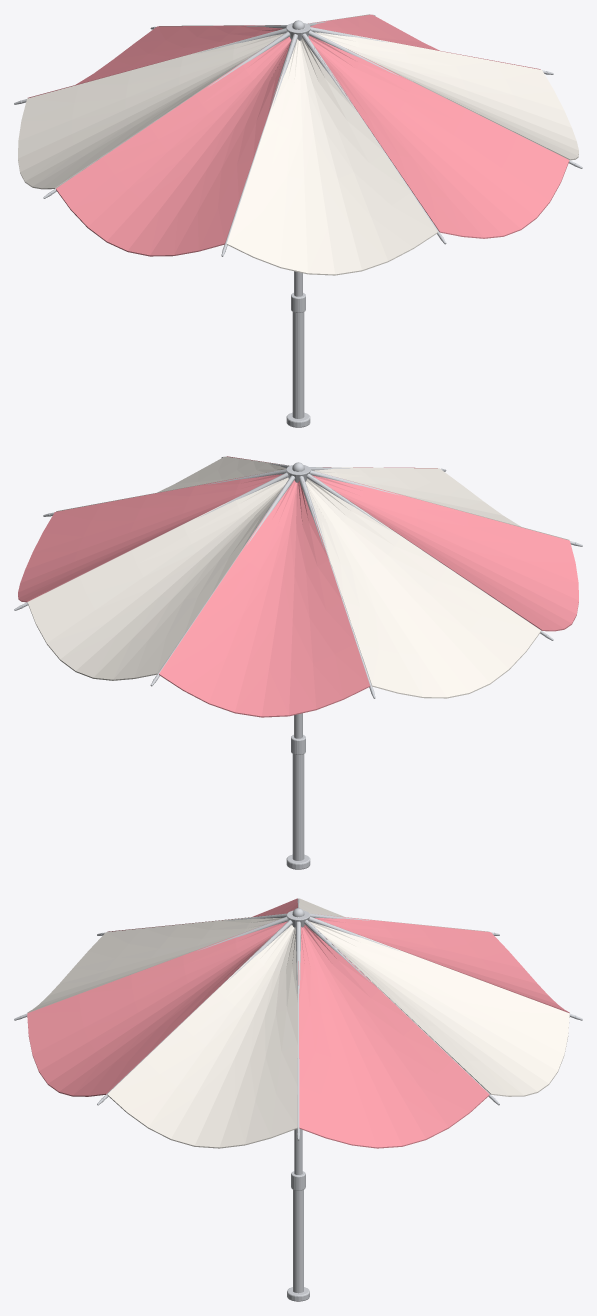
The model's file is beach_umbrella.glb.
3 renders of one model, top to bottom at view 1: azimuth 30°, elevation 25°; view 2: azimuth 150°, elevation 25°; view 3: azimuth 270°, elevation 25°, orthographic. The views are drawn at different scales.
Parts seen in each view (by area): view 1: beach_umbrella_canopy_panel5, beach_umbrella_canopy_panel4, beach_umbrella_canopy_panel6, beach_umbrella_canopy_panel3, beach_umbrella_canopy_panel7, beach_umbrella_canopy_panel2, beach_umbrella_canopy_panel0, beach_umbrella_pole_lower, beach_umbrella_rib5, beach_umbrella_rib6, beach_umbrella_rib4; view 2: beach_umbrella_canopy_panel2, beach_umbrella_canopy_panel3, beach_umbrella_canopy_panel1, beach_umbrella_canopy_panel4, beach_umbrella_canopy_panel0, beach_umbrella_canopy_panel5, beach_umbrella_canopy_panel7, beach_umbrella_pole_lower, beach_umbrella_rib3, beach_umbrella_rib2, beach_umbrella_rib4; view 3: beach_umbrella_canopy_panel0, beach_umbrella_canopy_panel7, beach_umbrella_canopy_panel1, beach_umbrella_canopy_panel6, beach_umbrella_canopy_panel2, beach_umbrella_canopy_panel5, beach_umbrella_pole_lower, beach_umbrella_rib0, beach_umbrella_rib1, beach_umbrella_rib7.
Boxes of the visible parts, x1,y1,x2,y2 form: beach_umbrella_canopy_panel5: (226, 38, 437, 275); beach_umbrella_canopy_panel4: (56, 36, 291, 256); beach_umbrella_canopy_panel6: (308, 35, 569, 238); beach_umbrella_canopy_panel3: (18, 33, 284, 189); beach_umbrella_canopy_panel7: (313, 30, 578, 160); beach_umbrella_canopy_panel2: (28, 25, 283, 98); beach_umbrella_canopy_panel0: (308, 14, 540, 69); beach_umbrella_pole_lower: (292, 312, 304, 418); beach_umbrella_rib5: (223, 29, 297, 249); beach_umbrella_rib6: (301, 29, 442, 237); beach_umbrella_rib4: (50, 28, 293, 194); beach_umbrella_canopy_panel2: (159, 480, 370, 717); beach_umbrella_canopy_panel3: (305, 478, 540, 698); beach_umbrella_canopy_panel1: (27, 477, 288, 680); beach_umbrella_canopy_panel4: (312, 475, 578, 631); beach_umbrella_canopy_panel0: (18, 472, 283, 602); beach_umbrella_canopy_panel5: (313, 467, 568, 540); beach_umbrella_canopy_panel7: (56, 456, 288, 511); beach_umbrella_pole_lower: (292, 754, 304, 860); beach_umbrella_rib3: (299, 471, 373, 691); beach_umbrella_rib2: (154, 471, 295, 679); beach_umbrella_rib4: (303, 470, 546, 636); beach_umbrella_canopy_panel0: (298, 925, 489, 1148); beach_umbrella_canopy_panel7: (107, 925, 298, 1148); beach_umbrella_canopy_panel1: (309, 921, 569, 1096); beach_umbrella_canopy_panel6: (27, 921, 287, 1096); beach_umbrella_canopy_panel2: (314, 914, 569, 1013); beach_umbrella_canopy_panel5: (27, 914, 282, 1013); beach_umbrella_pole_lower: (293, 1190, 303, 1293); beach_umbrella_rib0: (296, 917, 300, 1132); beach_umbrella_rib1: (302, 916, 494, 1100); beach_umbrella_rib7: (102, 916, 294, 1100).
Bounding box in the file's own units: 2.83 × 2.13 × 2.83.
